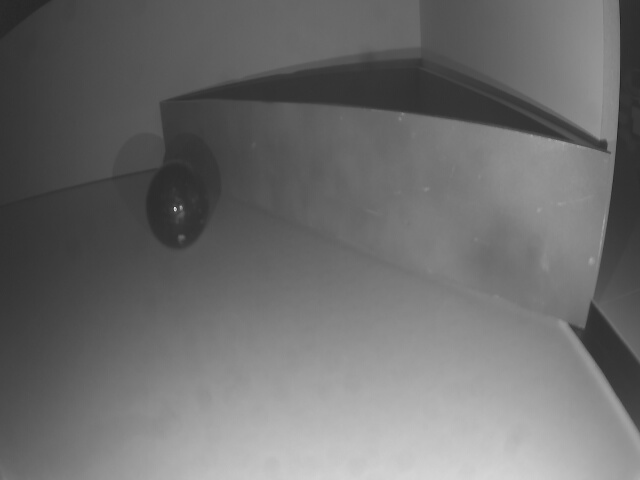Dead: (145, 161, 210, 250)
Green: (152, 93, 615, 333)
